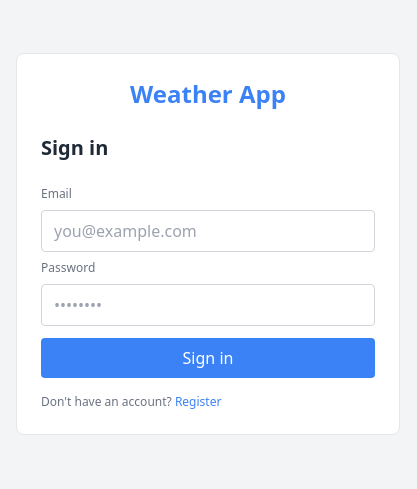
Test: AuthPage › switches back to LoginForm when Sign in link is clicked
The image size is (417, 489).
Click the text "Register". click: (198, 402)
box: left=175, top=393, right=221, bottom=410
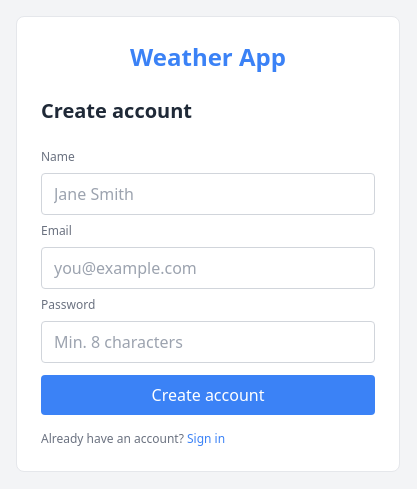
Click the text "Sign in". click: (206, 438)
box: left=187, top=430, right=225, bottom=447
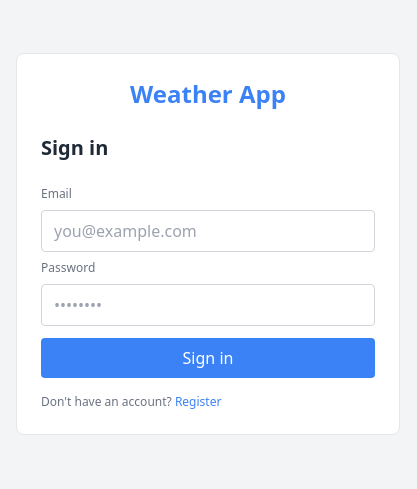
Now the heading "Sign in" is shown, box left=41, top=134, right=108, bottom=161
